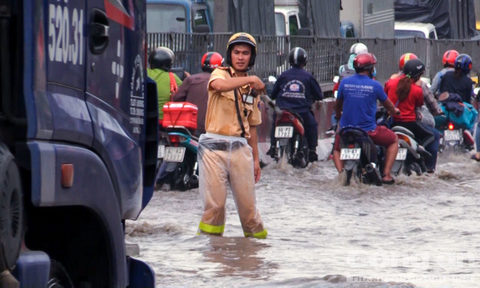police: (191, 32, 273, 243)
